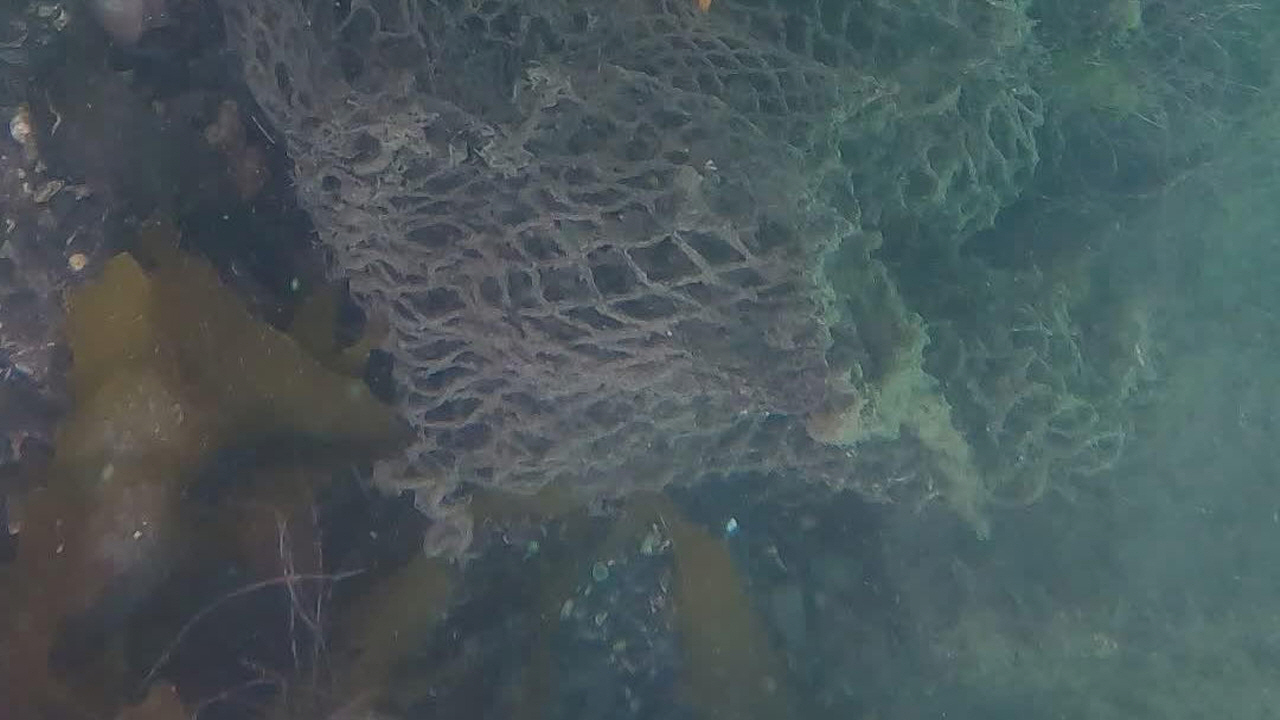fish net: (242, 0, 1280, 506)
